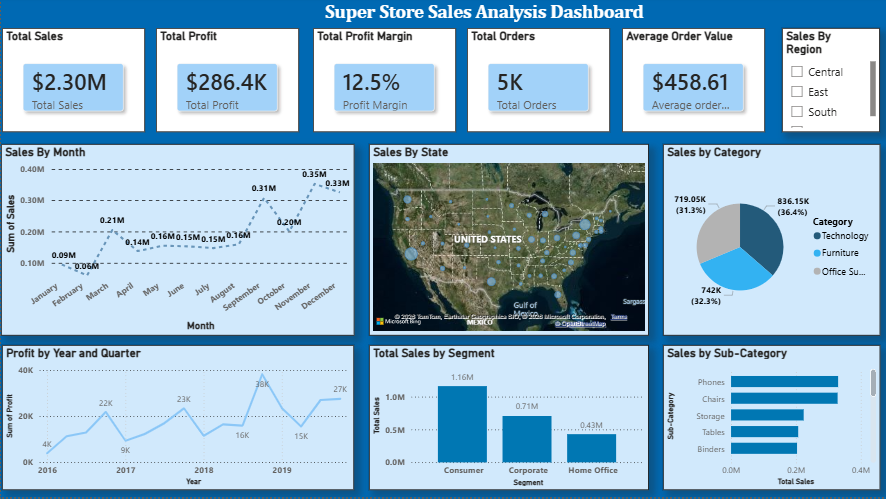

What the dashboard file says about the page in this screenshot:
{"tool":"powerbi","page":{"name":"Page 1","canvas":[1280,720],"ordinal":0},"visuals":[{"type":"cardVisual","title":"Total Profit","fields":{"Data":["Orders.Total Profit"]},"box":[223.7,44.5,205.6,150.2],"z":0},{"type":"cardVisual","title":"Total Sales","fields":{"Data":["Orders.Total Sales"]},"box":[2,44.5,205.6,150.2],"z":1000},{"type":"cardVisual","title":"Total Profit Margin","fields":{"Data":["Orders.Profit Margin"]},"box":[448.9,44.5,205.6,150.2],"z":2000},{"type":"cardVisual","title":"Total Orders","fields":{"Data":["Orders.Total Orders"]},"box":[670.6,44.5,205.6,150.2],"z":3000},{"type":"cardVisual","title":"Average Order Value","fields":{"Data":["Orders.Average order value"]},"box":[894.1,44.5,205.6,150.2],"z":4000},{"type":"lineChart","title":"Sales By Month","fields":{"Category":["Orders.Order Date.Variation.Date Hierarchy.Month"],"Y":["Sum(Orders.Sales)"]},"box":[0,211.4,508.6,275.7],"z":5000},{"type":"slicer","title":"Sales By Region","fields":{"Values":["Orders.Region"]},"box":[1124.7,44.5,141.2,150.2],"z":6000},{"type":"map","title":"Sales By State","fields":{"Category":["Orders.State"],"Size":["Orders.Total Sales"]},"box":[530,211.4,402.9,275.7],"z":7000},{"type":"pieChart","title":"Sales by Category","fields":{"Category":["Orders.Category"],"Y":["Orders.Total Sales"]},"box":[952.9,211.4,312.9,275.7],"z":8000},{"type":"lineChart","title":"Profit by Year and Quarter","fields":{"Category":["Orders.Order Date.Variation.Date Hierarchy.Year","Orders.Order Date.Variation.Date Hierarchy.Quarter"],"Y":["Sum(Orders.Profit)"]},"box":[1.4,501.4,507.1,208.6],"z":9000},{"type":"barChart","title":"Sales by Sub-Category","fields":{"Category":["Orders.Sub-Category"],"Y":["Orders.Total Sales"]},"box":[952.9,501.4,312.9,208.6],"z":10000},{"type":"columnChart","fields":{"Category":["Orders.Segment"],"Y":["Orders.Total Sales"]},"box":[530,501,403,209],"z":11000},{"type":"textbox","box":[460,0,473.3,45],"z":12000}]}

Visuals, with their boxes in screenshot pixels (x1, y1, x2, y2), scaled from the page's 1280x720 canvas onto the 886x499 screenshot:
"Total Profit" cardVisual: 155:31:297:135
"Total Sales" cardVisual: 1:31:144:135
"Total Profit Margin" cardVisual: 311:31:453:135
"Total Orders" cardVisual: 464:31:606:135
"Average Order Value" cardVisual: 619:31:761:135
"Sales By Month" lineChart: 0:147:352:338
"Sales By Region" slicer: 779:31:876:135
"Sales By State" map: 367:147:646:338
"Sales by Category" pieChart: 660:147:876:338
"Profit by Year and Quarter" lineChart: 1:347:352:492
"Sales by Sub-Category" barChart: 660:347:876:492
columnChart - Orders.Segment x Orders.Total Sales: 367:347:646:492
textbox: 318:0:646:31
